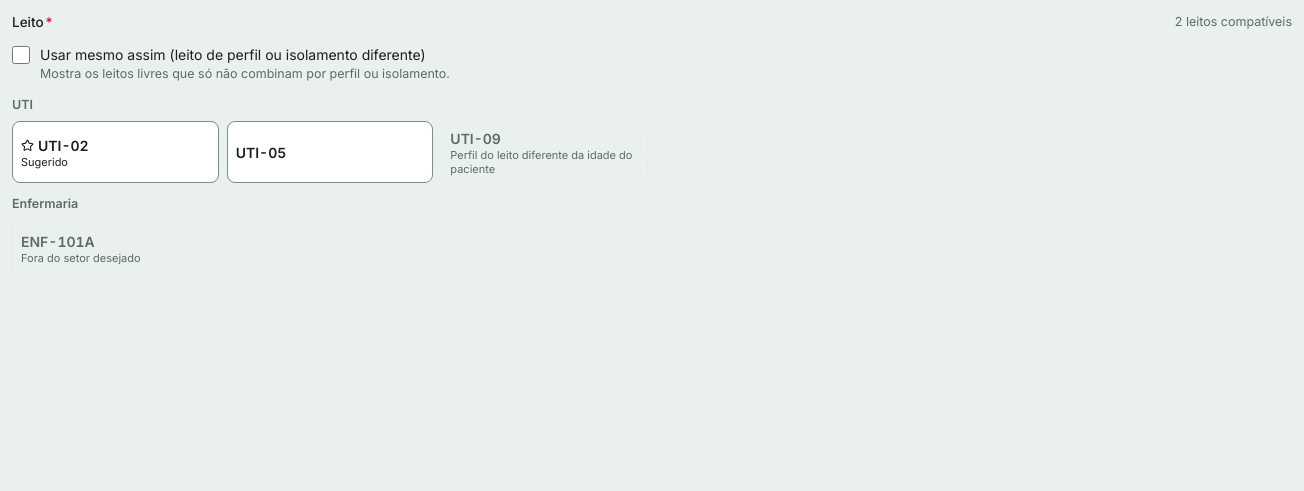
SeletorLeito (16.8) › motivo de incompatibilidade anunciado; exceção exige "Usar mesmo assim" e justificativa
Click the radio button with aria-label "UTI-09, UTI, Perfil do leito diferente da idade do paciente".
click(545, 152)  # box [441,121,648,183]
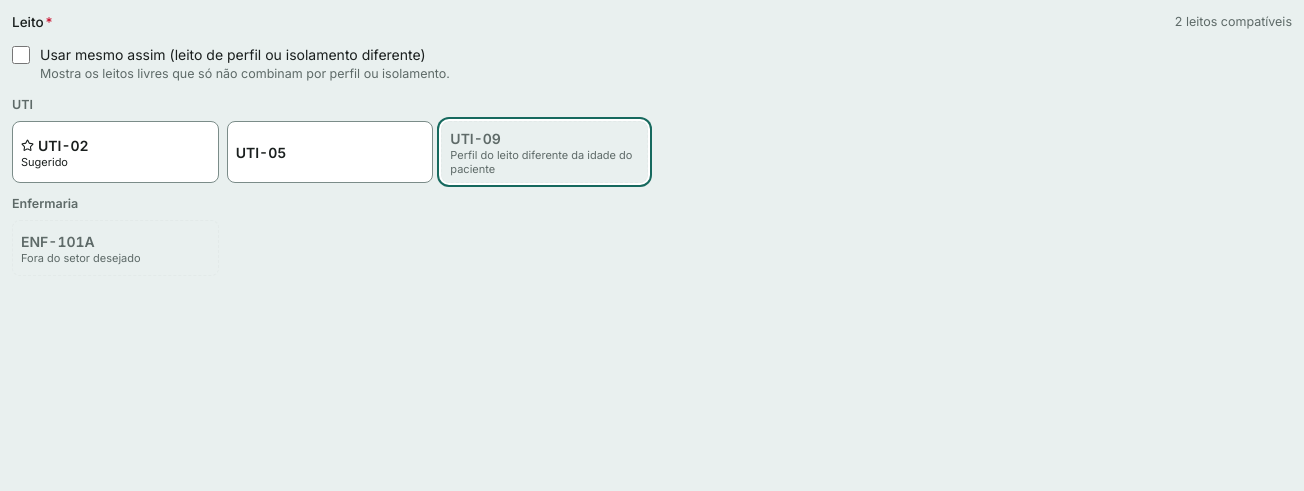
Click the checkbox labelled "Usar mesmo assim (leito de perfil ou isolamento diferente)".
click(21, 55)  # box [12,46,30,64]
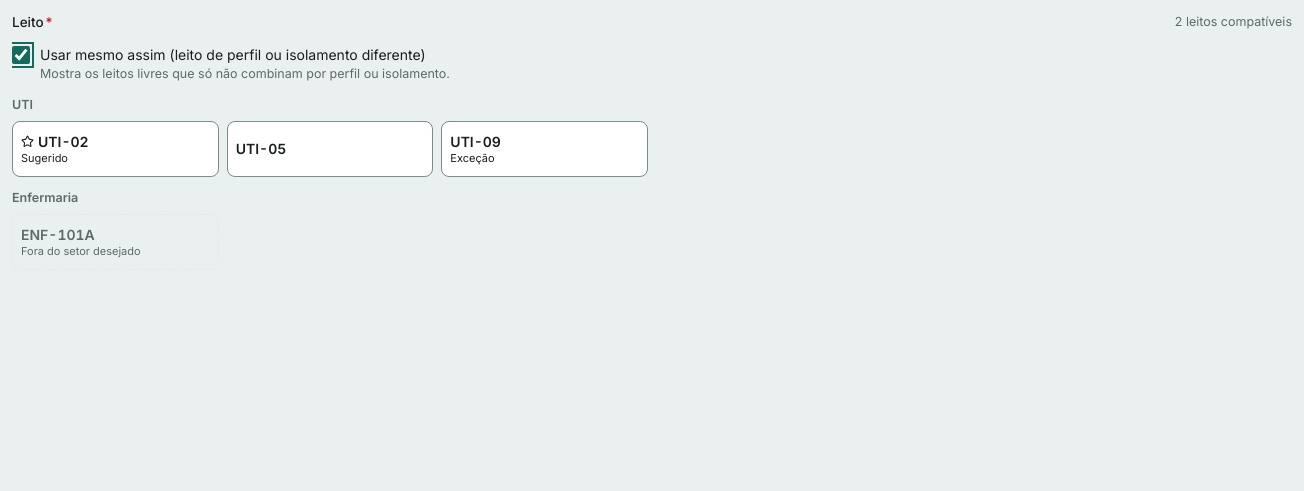
Result: the radio button with aria-label "UTI-09, UTI, Exceção" does not have attribute aria-disabled
Click the radio button with aria-label "UTI-09, UTI, Exceção".
click(545, 149)  # box [441,121,648,177]
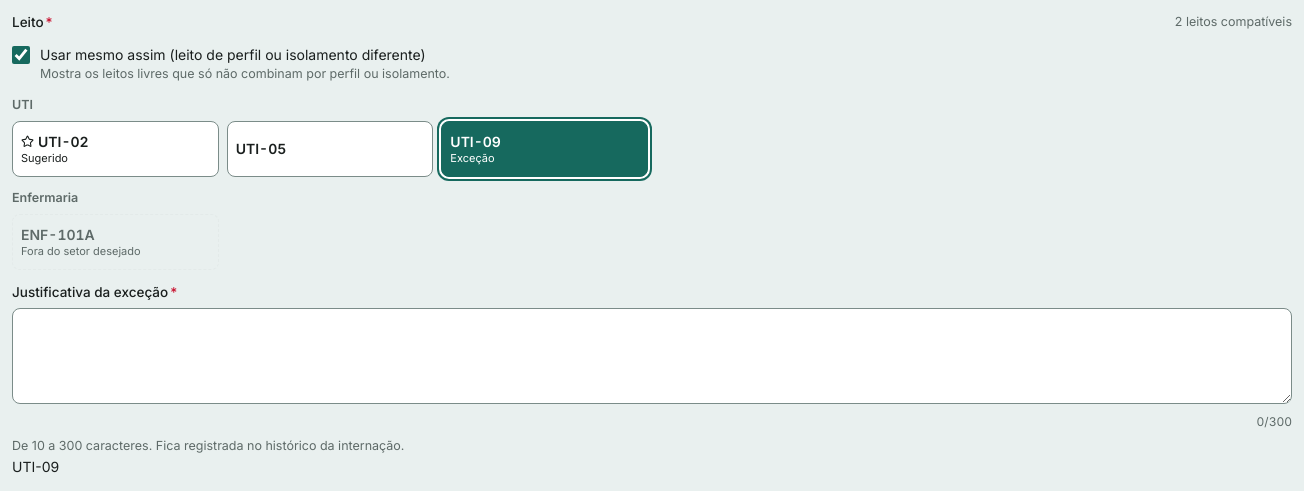
Result: the text with test id "valor" reads "UTI-09" at [12,458,59,474]
